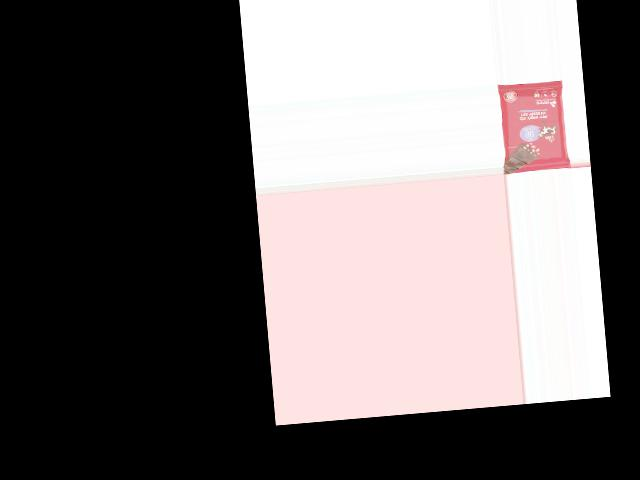chocolate: (499, 78, 570, 173)
